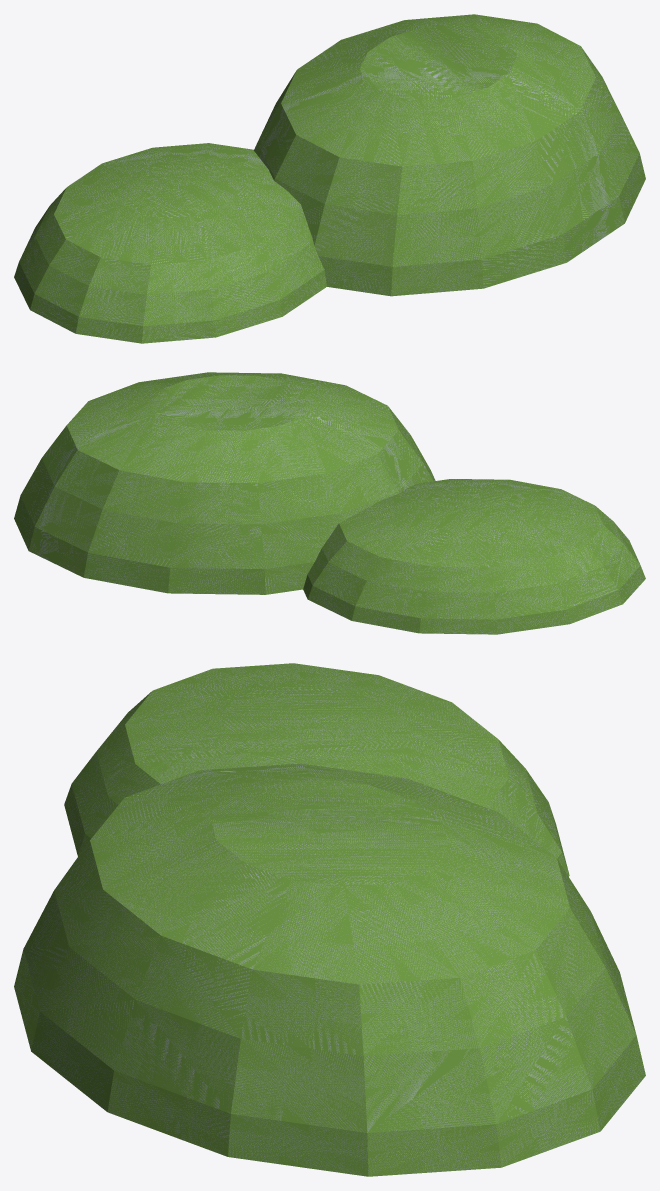
Rendered from Hills_02.fbx.
3 renders of one model, top to bottom at view 1: azimuth 30°, elevation 25°; view 2: azimuth 150°, elevation 25°; view 3: azimuth 270°, elevation 25°, orthographic. The views are drawn at different scales.
Parts seen in each view (by area): view 1: Model; view 2: Model; view 3: Model.
Boxes of the visible parts, x1,y1,x2,y2 form: Model: (14,14,645,343); Model: (14,372,645,634); Model: (14,663,645,1176).
Bounding box in the file's own units: 4503 × 921 × 2655.
